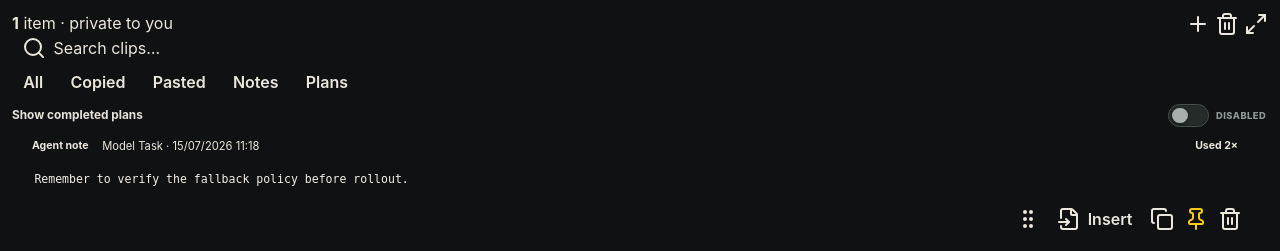
Test: ClipboardDock › copies the item text via the per-item copy icon next to delete
Check: the button "Remember to verify the fallback policy before rollout." is shown, box [25,162,1245,198]
Step 1. Click the button named "Copy clip" → (1162, 220), box [1147,205,1176,234]
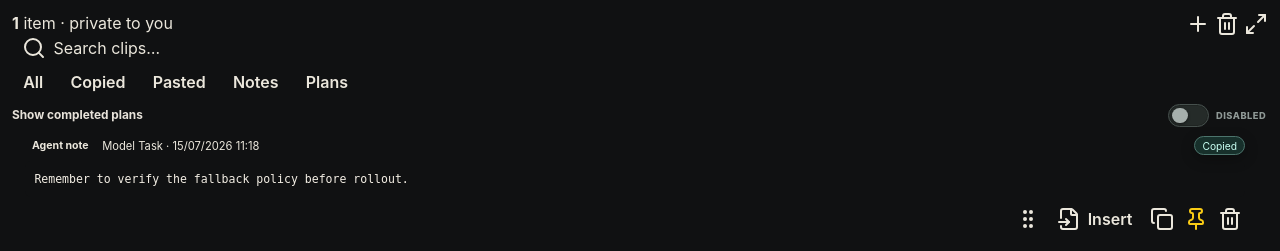
Check: the text "Copied" is shown, box [1194,136,1245,155]
